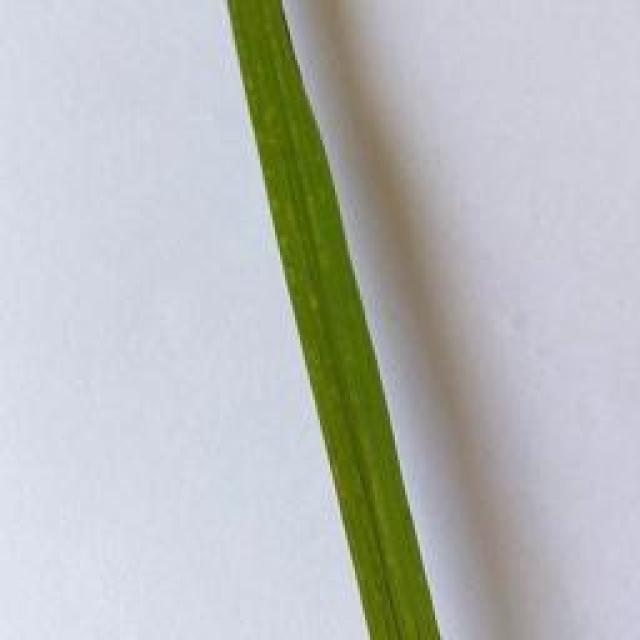Healthy-Plant: (212, 0, 440, 640)
